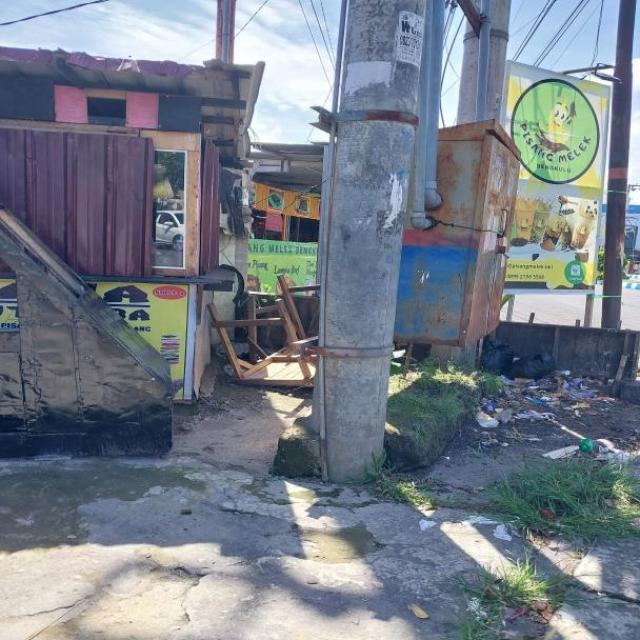electric pole ahead at: (316, 0, 412, 492)
